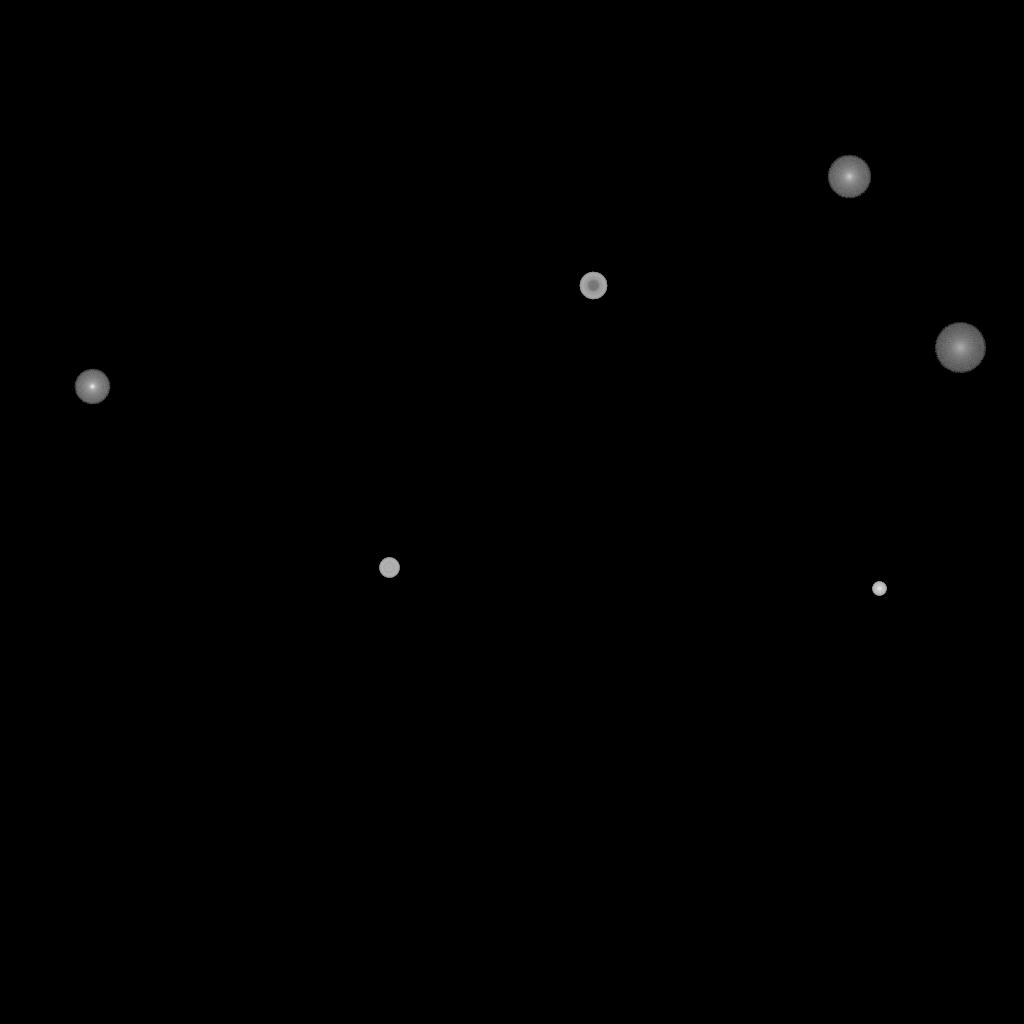depth:-30: (872, 582, 886, 596)
depth:-40: (379, 558, 399, 578)
depth:-50: (579, 272, 607, 300)
depth:0: (74, 369, 110, 405)
depth:10: (827, 155, 871, 199)
depth:20: (934, 323, 986, 373)
